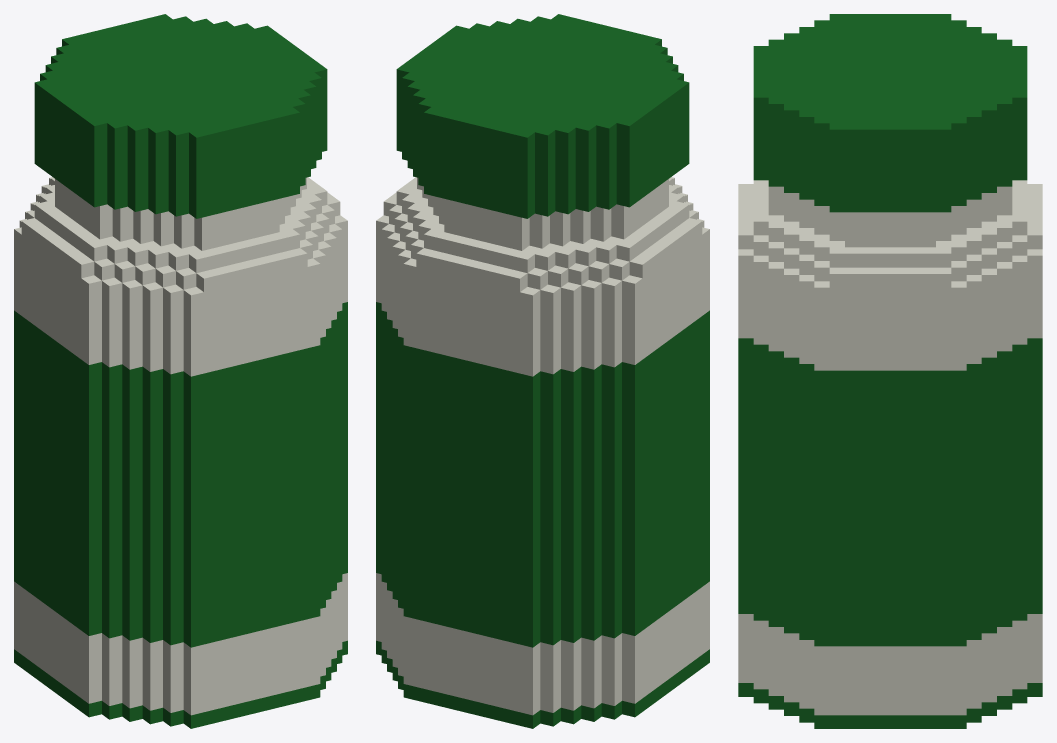
File: naproxen.glb
The picture shows the model from 3 angles, left to right: view 1: azimuth 30°, elevation 25°; view 2: azimuth 150°, elevation 25°; view 3: azimuth 270°, elevation 25°; orthographic projection.
Parts seen in each view (by area): view 1: naproxen:vessel; view 2: naproxen:vessel; view 3: naproxen:vessel.
Part boxes in pixels (bbox=[...]): naproxen:vessel: bbox=[14, 14, 347, 728]; naproxen:vessel: bbox=[376, 14, 709, 728]; naproxen:vessel: bbox=[738, 14, 1042, 728].
Size of the model in its own units: 0.04 by 0.086 by 0.04.
